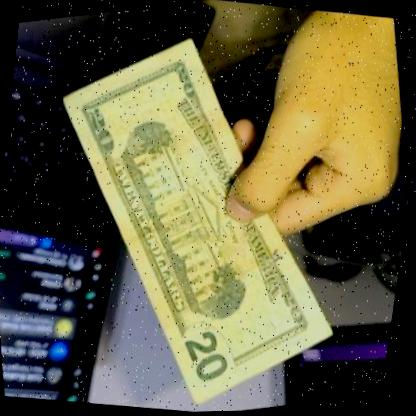dollar_back: (14, 0, 392, 416)
